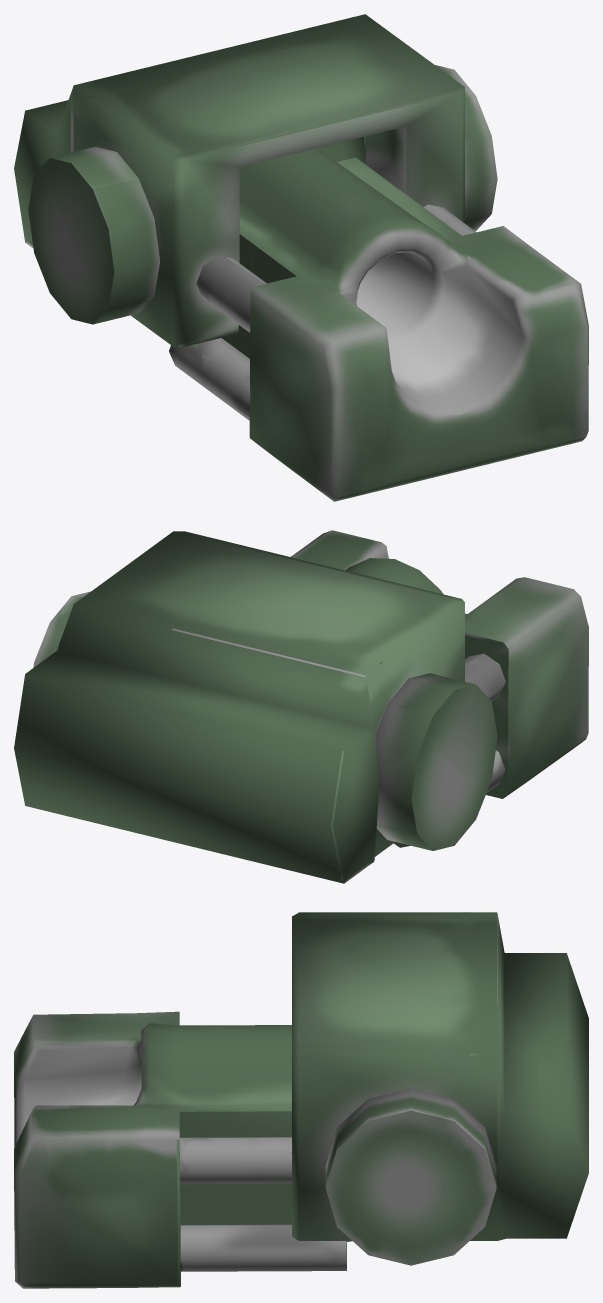
Rendered from MainGun.fbx.
The picture shows the model from 3 angles, top to bottom: view 1: azimuth 30°, elevation 25°; view 2: azimuth 150°, elevation 25°; view 3: azimuth 270°, elevation 25°; orthographic projection.
Visible parts, largest first — view 1: Cylinder; view 2: Cylinder; view 3: Cylinder.
Part boxes in pixels (bbox=[...]): Cylinder: bbox=[14, 14, 588, 501]; Cylinder: bbox=[14, 530, 588, 883]; Cylinder: bbox=[14, 912, 588, 1288].
Bounding box in the file's own units: 91.53 × 56.41 × 120.
